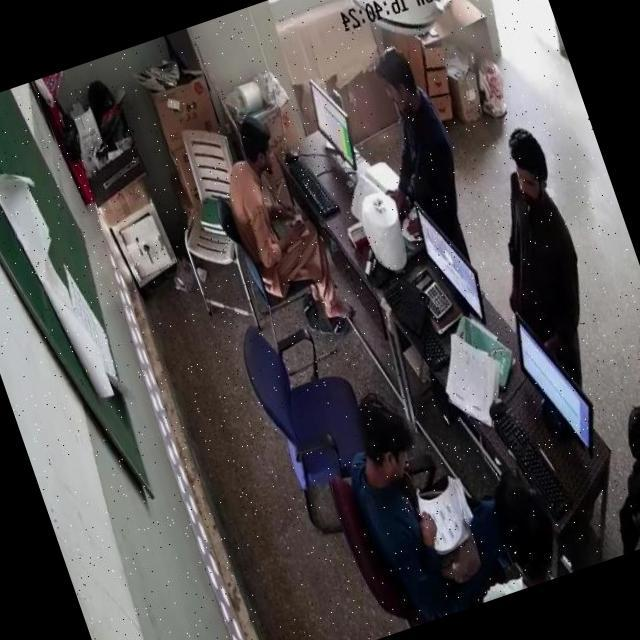person: (333, 377, 481, 612), (467, 134, 609, 351), (200, 97, 324, 285), (366, 38, 468, 230), (452, 472, 581, 602), (605, 398, 640, 545), (617, 327, 640, 421)
